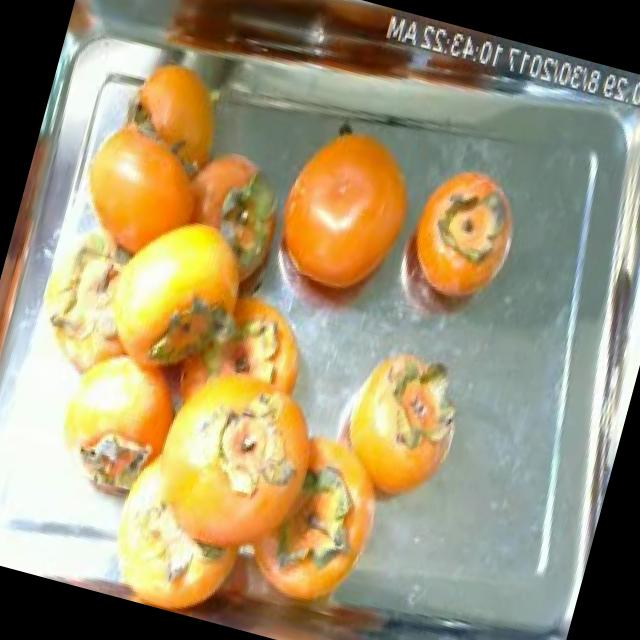Fruit: (244, 95, 438, 332), (314, 322, 486, 524), (386, 148, 540, 348)
